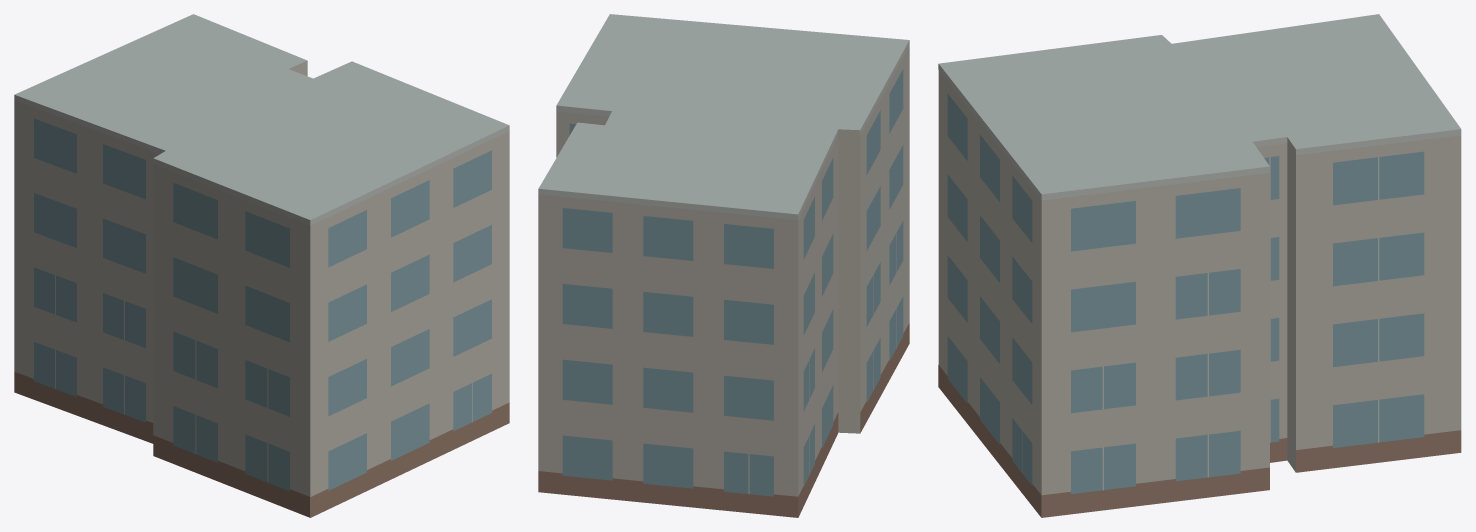
The model's file is survey-upis-32988636.glb.
3 renders of one model, left to right at view 1: azimuth 30°, elevation 25°; view 2: azimuth 150°, elevation 25°; view 3: azimuth 270°, elevation 25°, orthographic. The views are drawn at different scales.
Parts seen in each view (by area): view 1: survey-upis-32988636.tmp; view 2: survey-upis-32988636.tmp; view 3: survey-upis-32988636.tmp.
Part boxes in pixels (x1,y1,x2,y2): survey-upis-32988636.tmp: (14, 14, 509, 517); survey-upis-32988636.tmp: (538, 14, 909, 517); survey-upis-32988636.tmp: (938, 14, 1461, 517).
Size of the model in its own units: 15.43 by 12.9 by 18.9.
